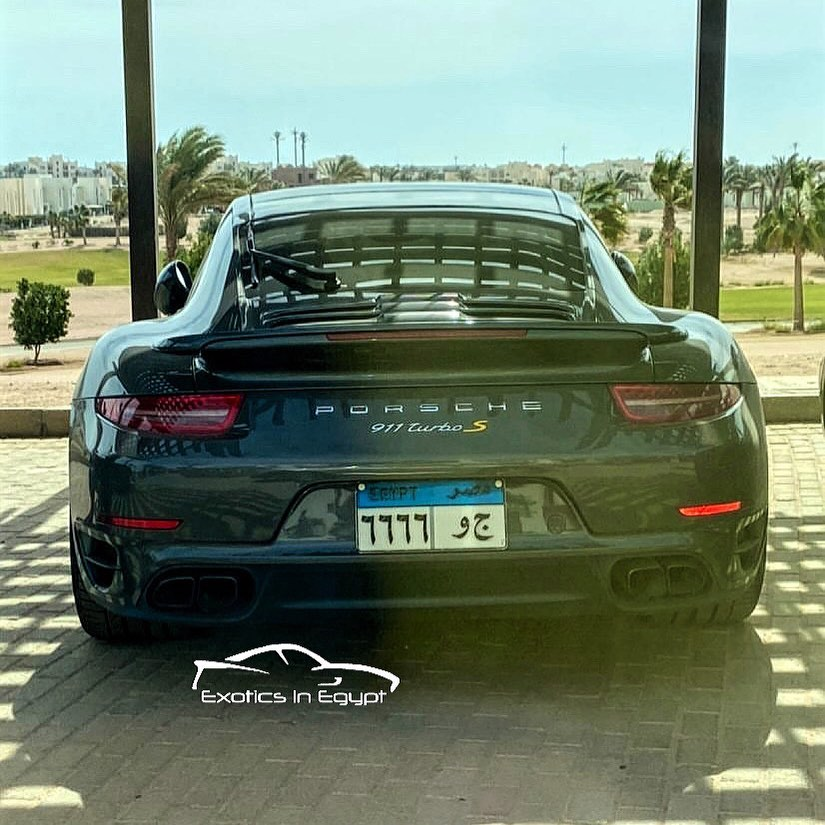carpl: (339, 487, 521, 554)
